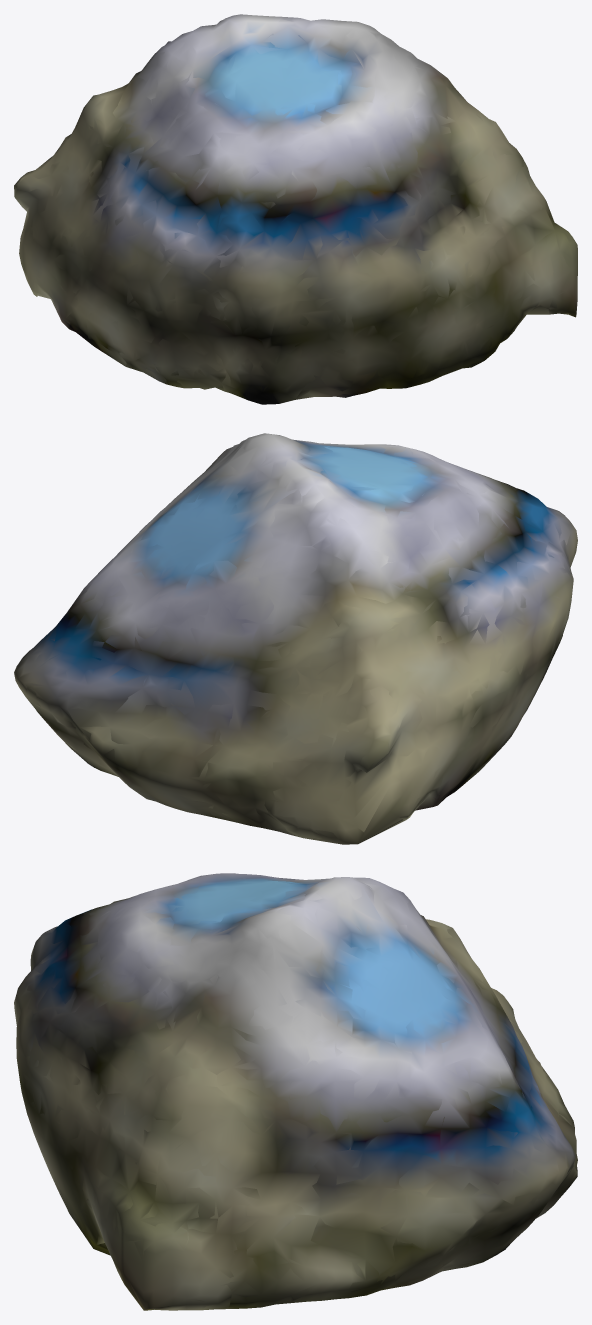
File: allied_pillbox.glb
3 renders of one model, top to bottom at view 1: azimuth 30°, elevation 25°; view 2: azimuth 150°, elevation 25°; view 3: azimuth 270°, elevation 25°, orthographic. The views are drawn at different scales.
Parts seen in each view (by area): view 1: allied_pillbox; view 2: allied_pillbox; view 3: allied_pillbox.
Boxes of the visible parts, x1,y1,x2,y2 form: allied_pillbox: (14,14,577,404); allied_pillbox: (14,433,577,844); allied_pillbox: (14,873,577,1310).
Bounding box in the file's own units: 1.97 × 1.24 × 2.07.
